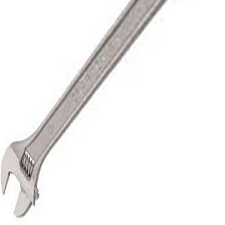wrench: (2, 2, 199, 217)
